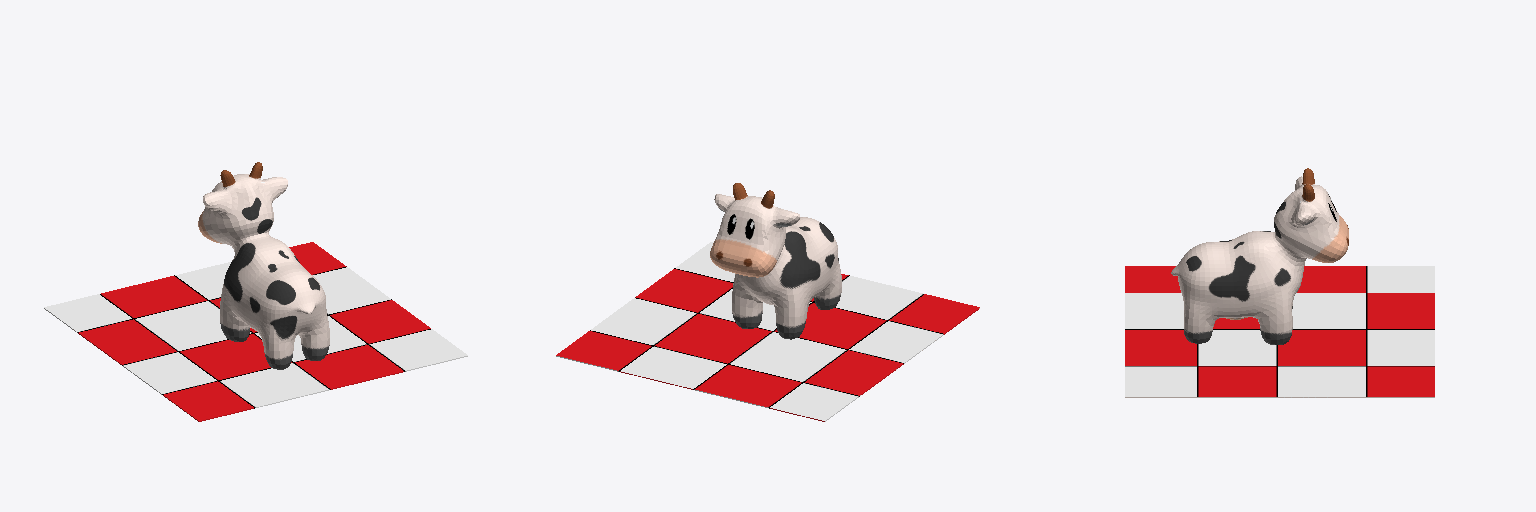
3 views of the same model, side by side, from view 1: azimuth 30°, elevation 25°; view 2: azimuth 150°, elevation 25°; view 3: azimuth 270°, elevation 25° (orthographic).
Bounding box in the file's own units: 3 × 1.69 × 3.
Materials: 1 (1 with a texture image).